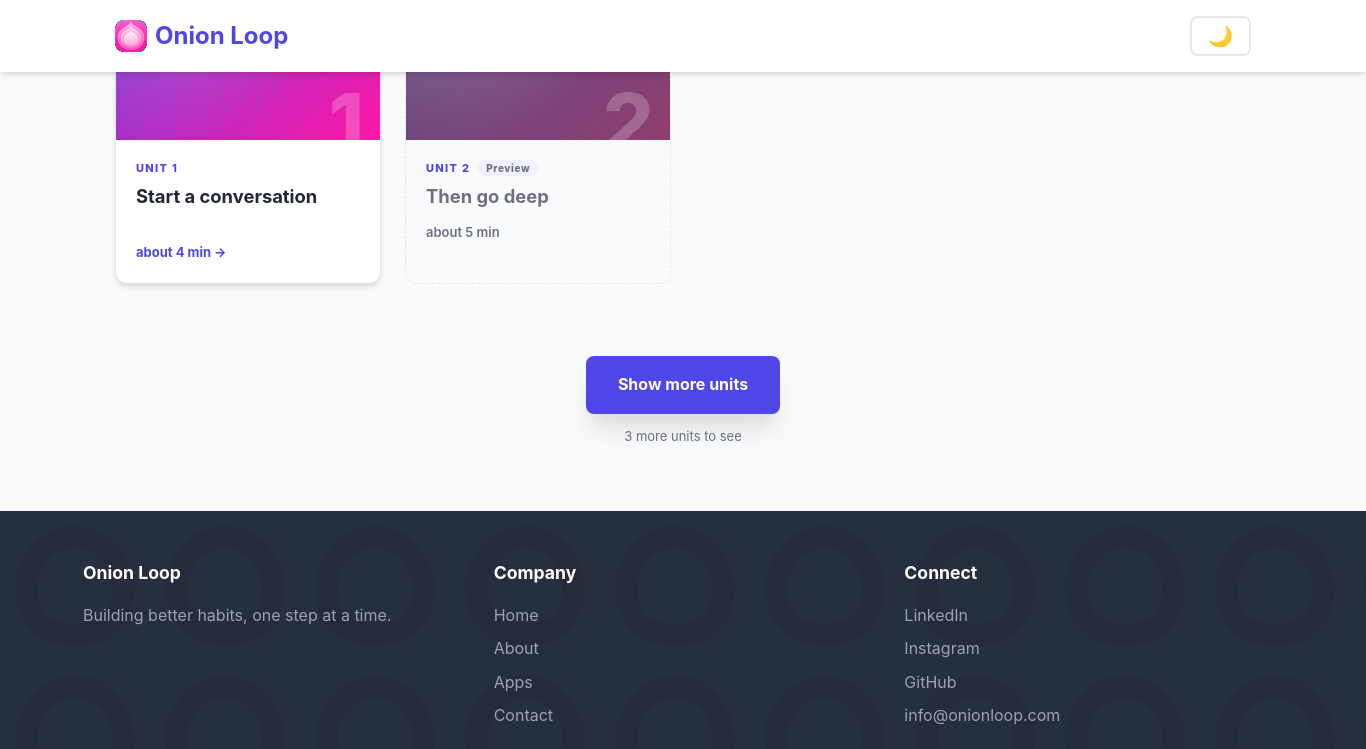
Test case: two clicks on show more are one request
(page scrolled)
Click the button "Show more units" at [683, 385], box [586,356,780,414]
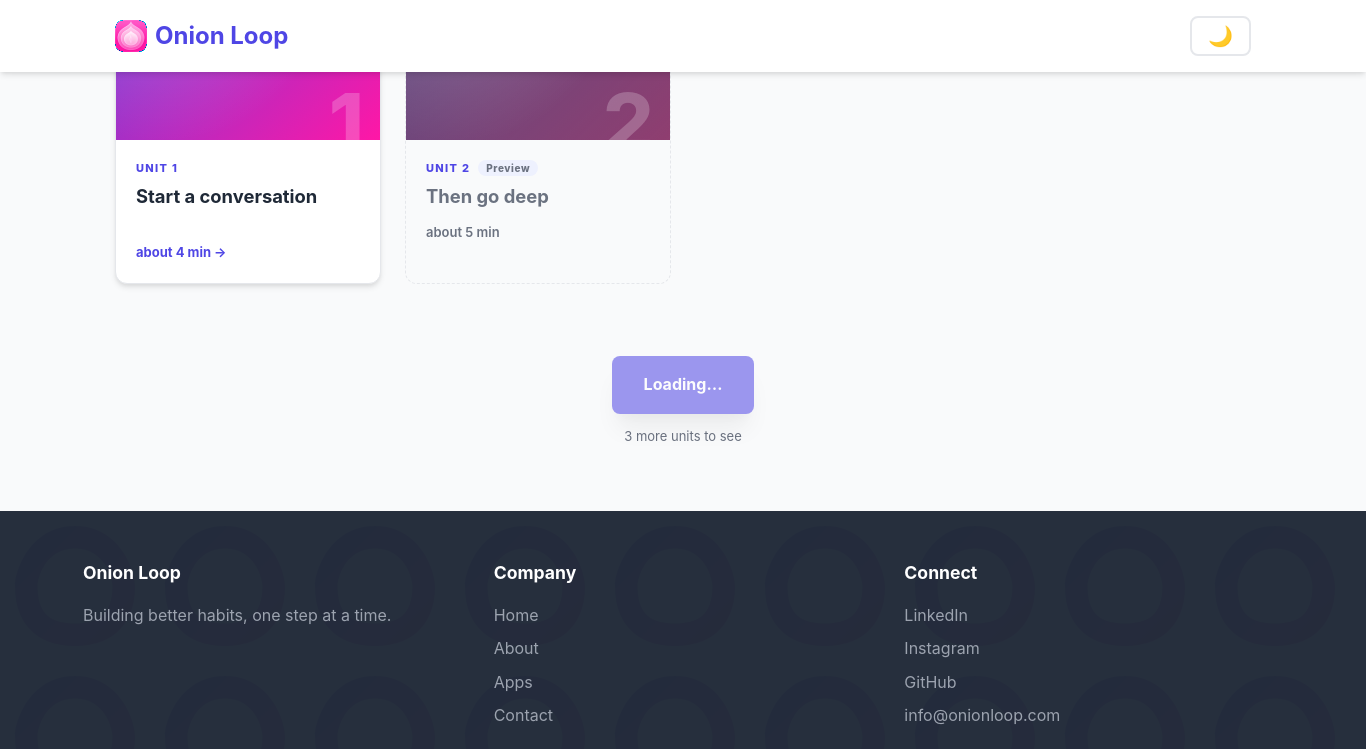
Click the button named "show more units" at [683, 385], box [612,356,754,414]
(page scrolled)
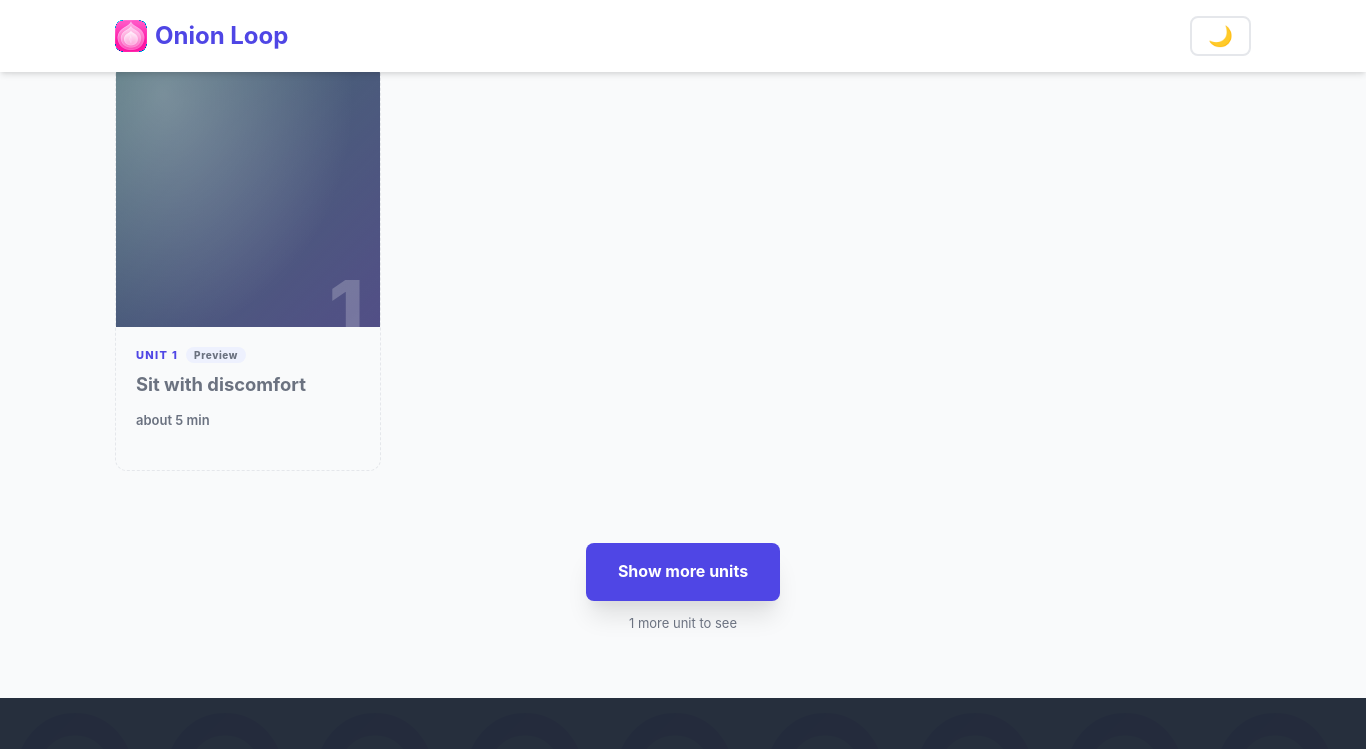
Now the text "Sit with discomfort" is shown, box [136,372,306,394]
